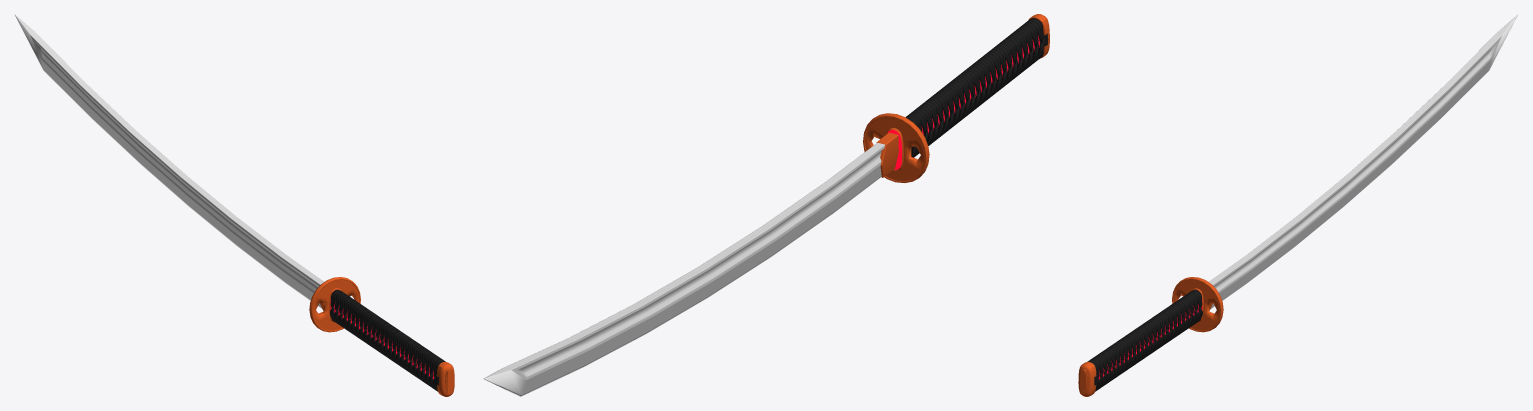
The model's file is katana.fbx.
3 views of the same model, side by side, from view 1: azimuth 30°, elevation 25°; view 2: azimuth 150°, elevation 25°; view 3: azimuth 330°, elevation 25° (orthographic). The views are drawn at different scales.
Visible parts, largest first — view 1: Cube, Plane, Cylinder, Cylinder.003; view 2: Cube, Plane, Cylinder, Cube.001; view 3: Cube, Plane, Cylinder, Cylinder.003.
Part boxes in pixels (box(x1,y1,x2,y2)): Cube: box(14, 14, 323, 308); Plane: box(330, 289, 445, 391); Cylinder: box(309, 277, 360, 332); Cylinder.003: box(436, 362, 454, 396); Cube: box(483, 143, 884, 396); Plane: box(905, 18, 1044, 157); Cylinder: box(863, 113, 929, 182); Cube.001: box(876, 132, 898, 177); Cube: box(1209, 15, 1517, 309); Plane: box(1087, 289, 1202, 391); Cylinder: box(1172, 277, 1223, 332); Cylinder.003: box(1078, 362, 1096, 396).
Bounding box in the file's own units: 24.89 × 38.58 × 370.
